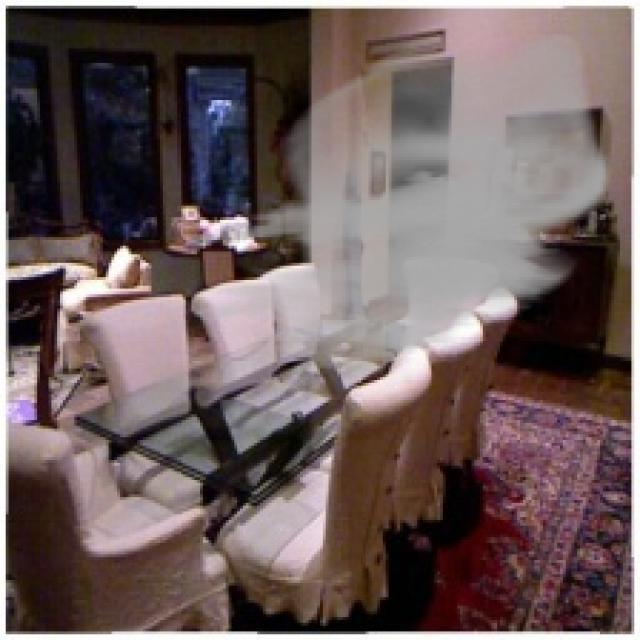Smoke: (194, 31, 612, 380)
